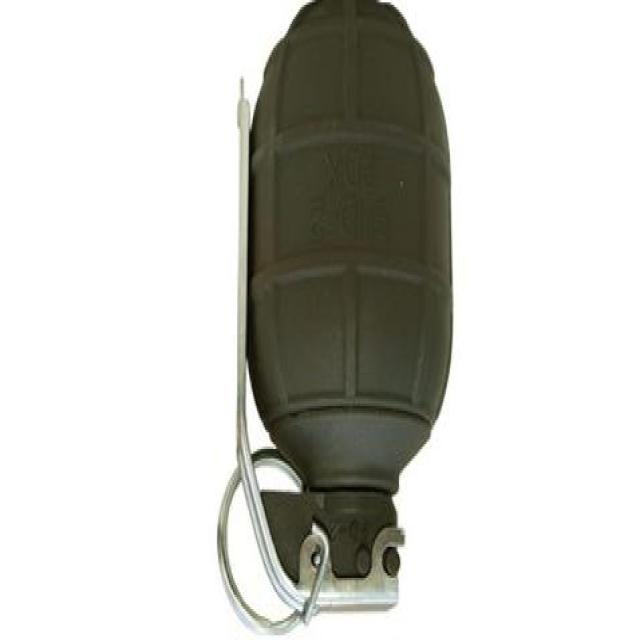grenade: (215, 3, 455, 640)
